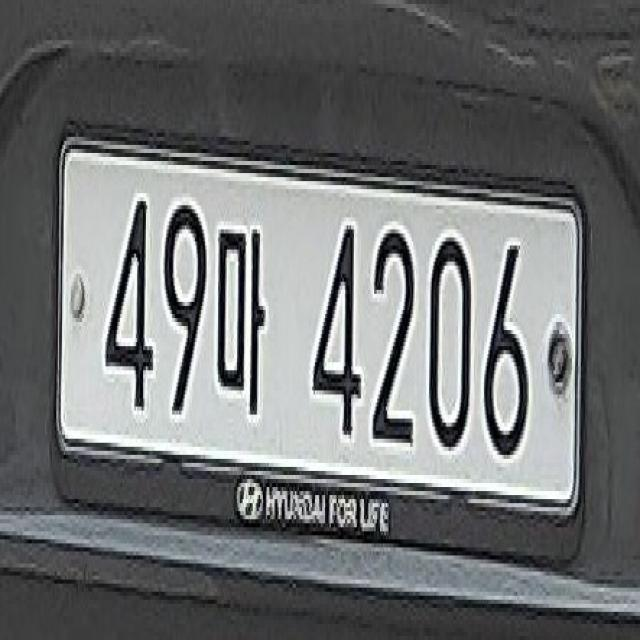0: (425, 218, 478, 485)
2: (368, 212, 420, 464)
4: (102, 180, 158, 432), (314, 211, 367, 463)
6: (482, 236, 538, 479)
9: (161, 184, 210, 430)
license_plate: (42, 116, 593, 576)
ma: (214, 196, 280, 426)
